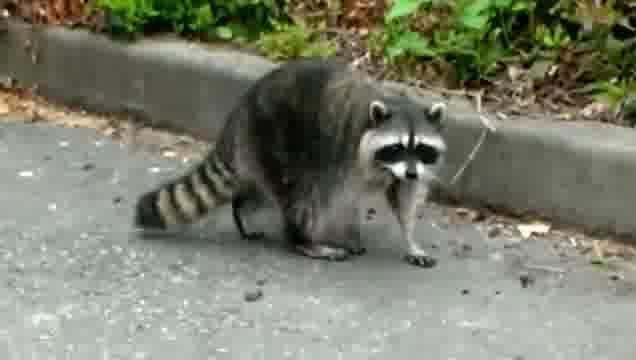raccoon: (132, 51, 448, 270)
